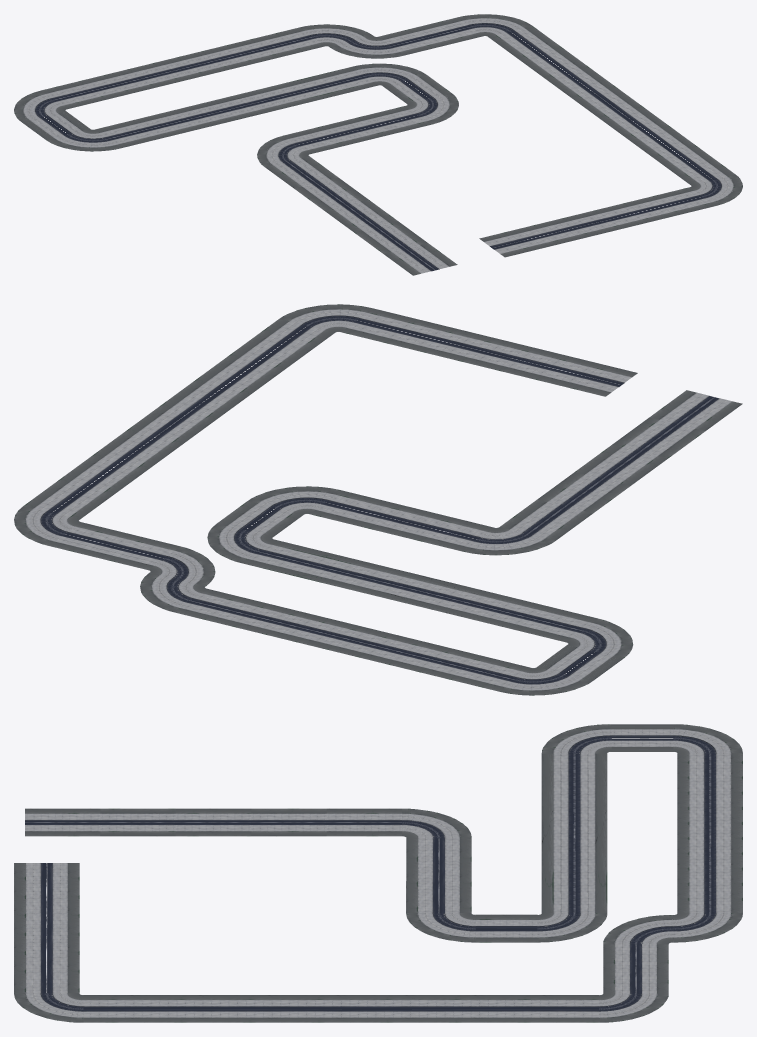
File: Cenario.fbx
The picture shows the model from 3 angles, top to bottom: view 1: azimuth 30°, elevation 25°; view 2: azimuth 150°, elevation 25°; view 3: azimuth 270°, elevation 25°; orthographic projection. The views are drawn at different scales.
Parts seen in each view (by area): view 1: street; view 2: street; view 3: street.
Boxes of the visible parts, x1=… form: street: x1=14, y1=14, x2=742, y2=275; street: x1=14, y1=304, x2=742, y2=695; street: x1=14, y1=724, x2=742, y2=1022.
Size of the model in its own units: 34040 by 12.18 by 35121.
